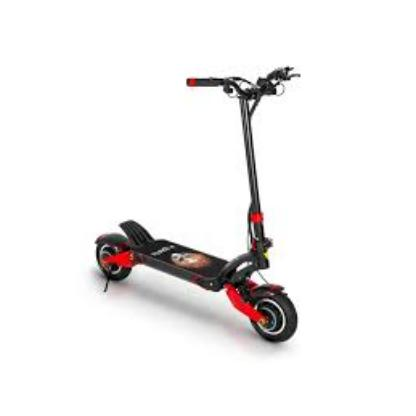bike: (94, 67, 299, 344), (94, 216, 299, 344)
